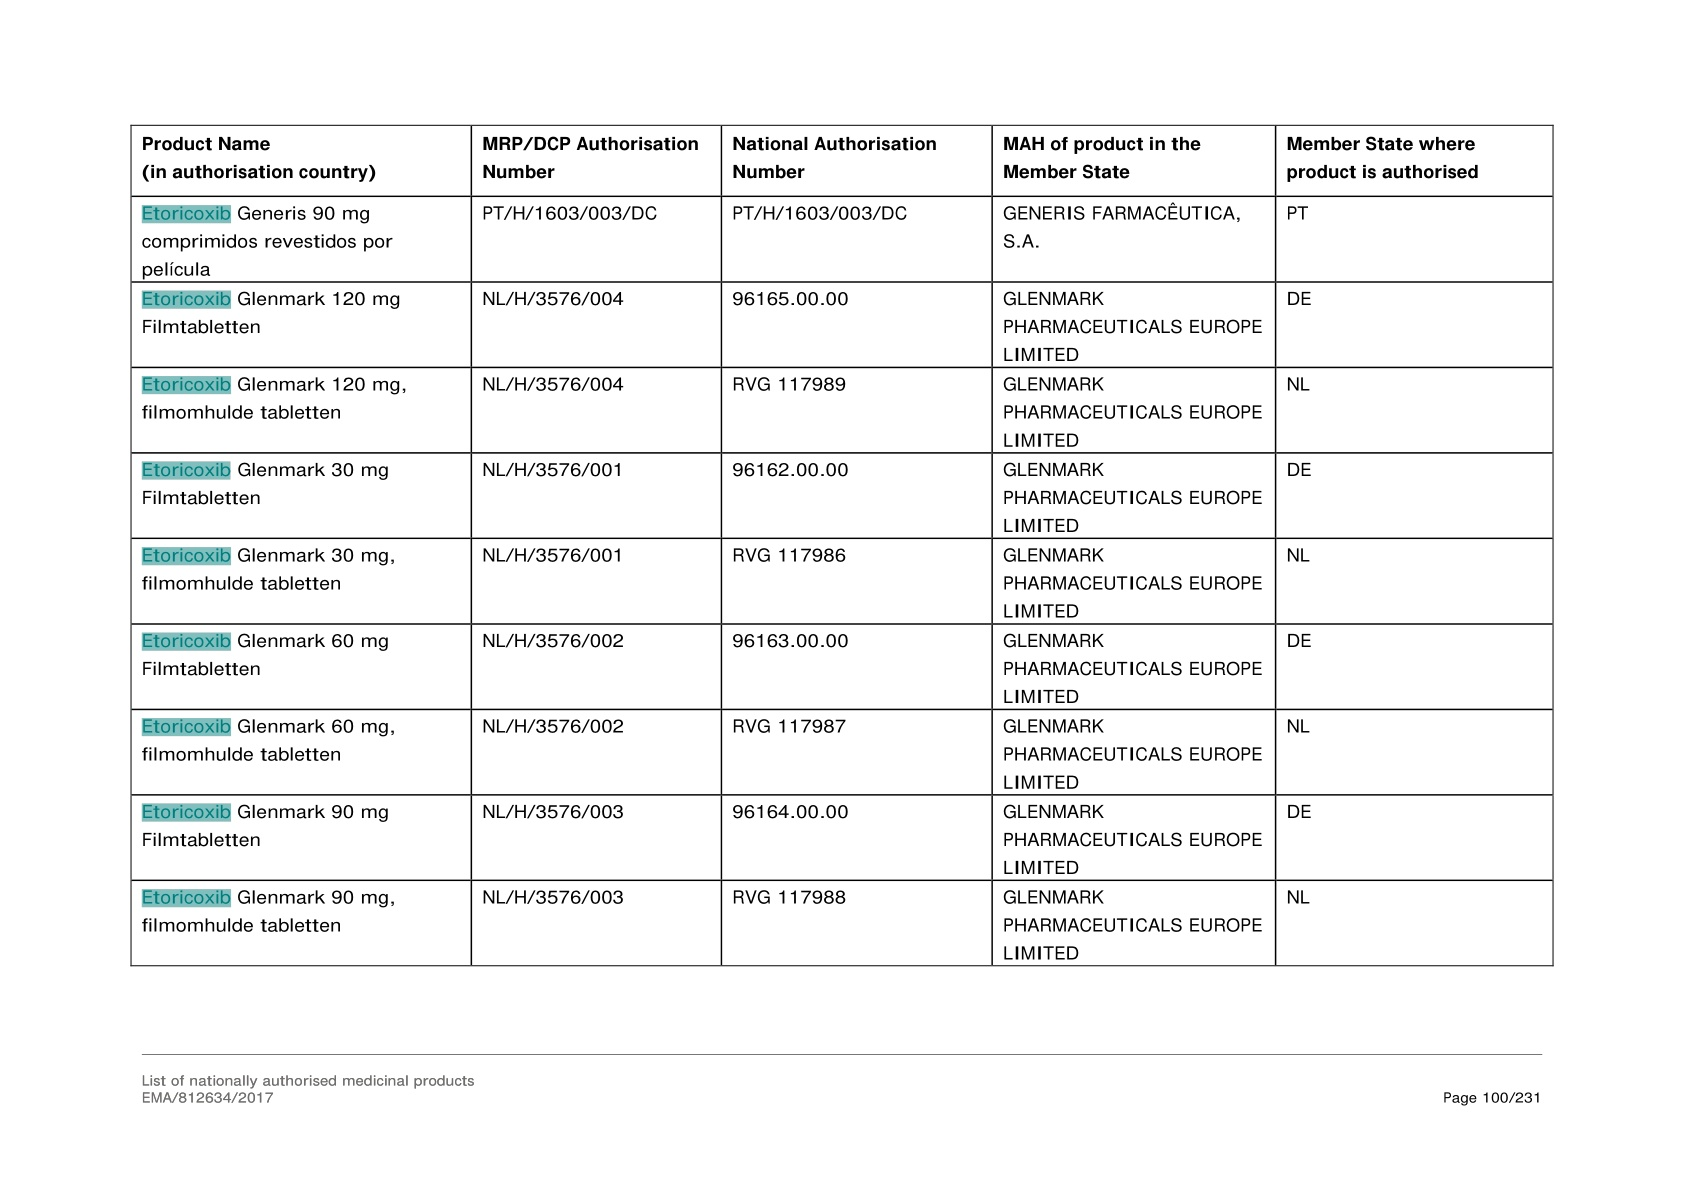full_lined: (130, 124, 1554, 967)
